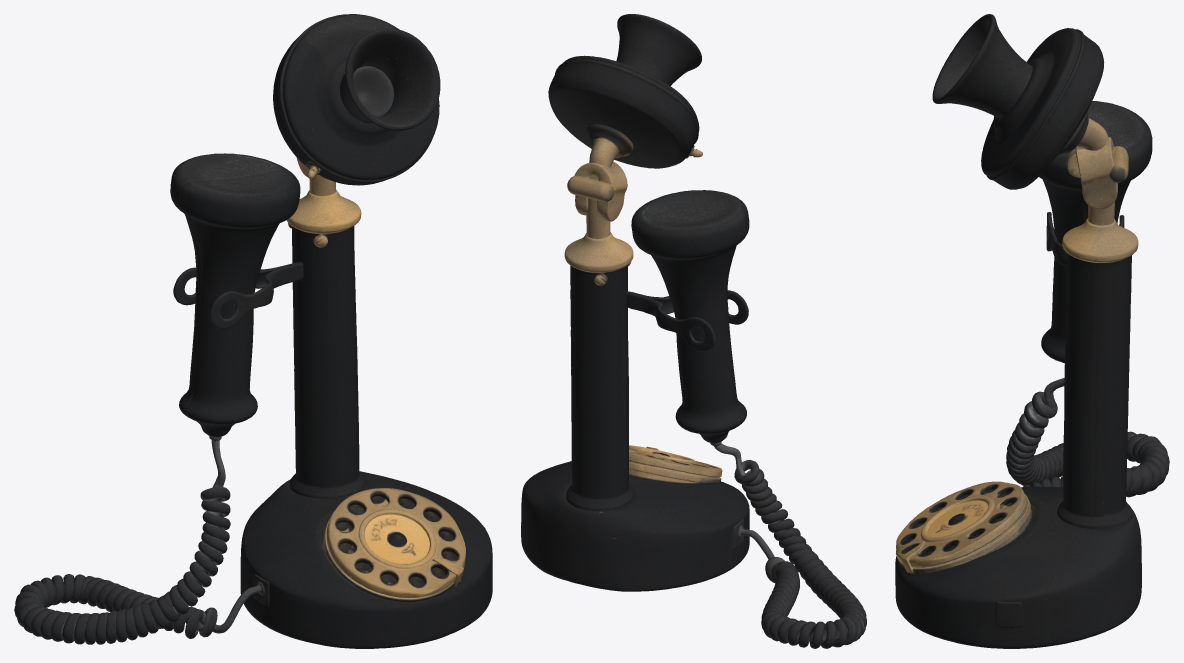
Rendered from telefon.glb.
3 renders of one model, left to right at view 1: azimuth 30°, elevation 25°; view 2: azimuth 150°, elevation 25°; view 3: azimuth 270°, elevation 25°, orthographic. The views are drawn at different scales.
Size of the model in its own units: 1.4 by 1.9 by 0.8149.
1 material, 1 textured.
